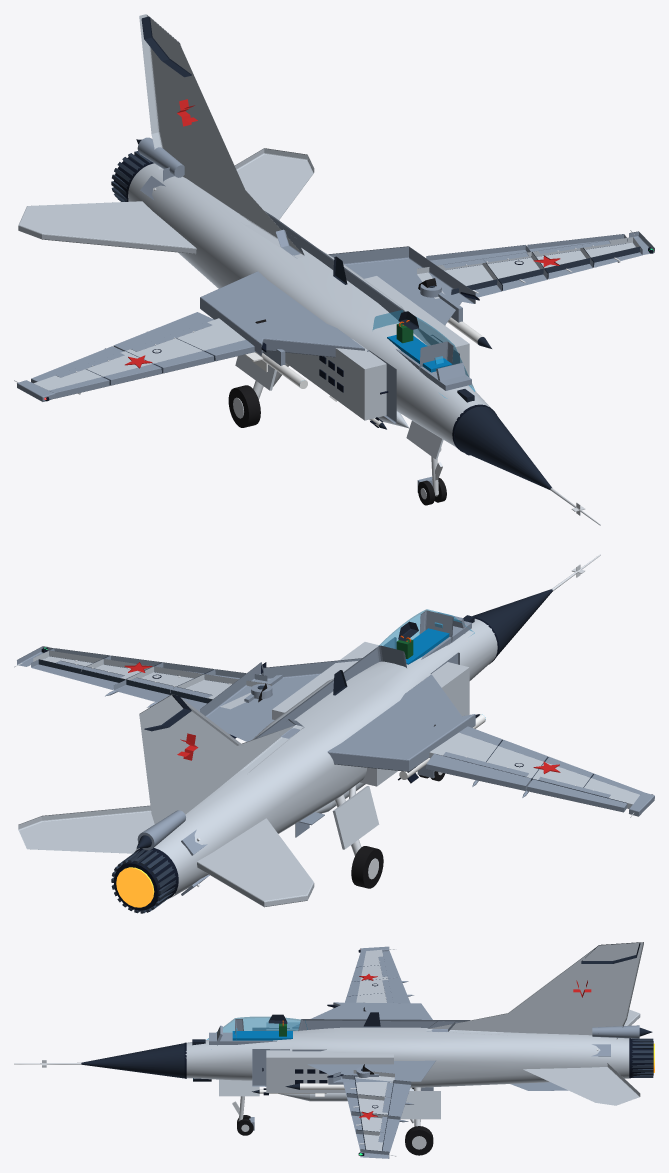
The model's file is mig23.glb.
The picture shows the model from 3 angles, top to bottom: view 1: azimuth 30°, elevation 25°; view 2: azimuth 150°, elevation 25°; view 3: azimuth 270°, elevation 25°; orthographic projection. The views are drawn at different scales.
Visible parts, largest first — view 1: MiG23_FighterJet_SuperDetail; view 2: MiG23_FighterJet_SuperDetail; view 3: MiG23_FighterJet_SuperDetail.
Part boxes in pixels (x1,y1,x2,y2): MiG23_FighterJet_SuperDetail: [14, 14, 654, 525]; MiG23_FighterJet_SuperDetail: [14, 554, 654, 913]; MiG23_FighterJet_SuperDetail: [14, 942, 654, 1158].
Size of the model in its own units: 1.47 by 0.6228 by 1.91.
